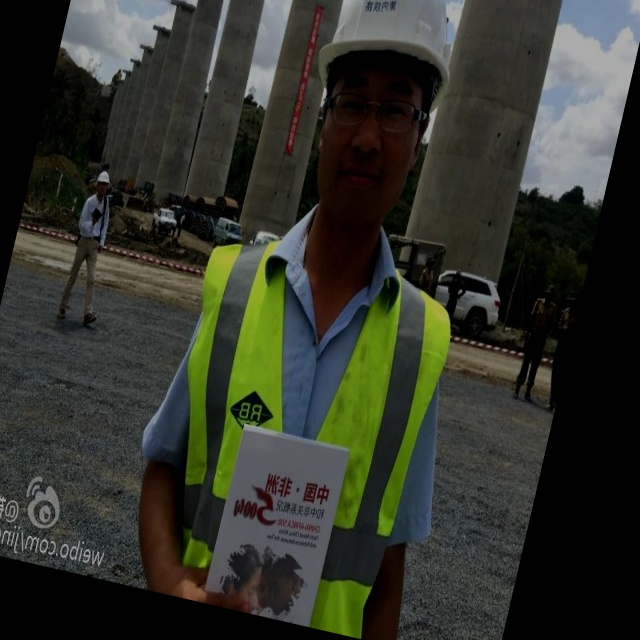Con_Casco: (291, 0, 471, 212), (94, 170, 113, 198)
Con_Chaleco: (135, 236, 456, 640)
